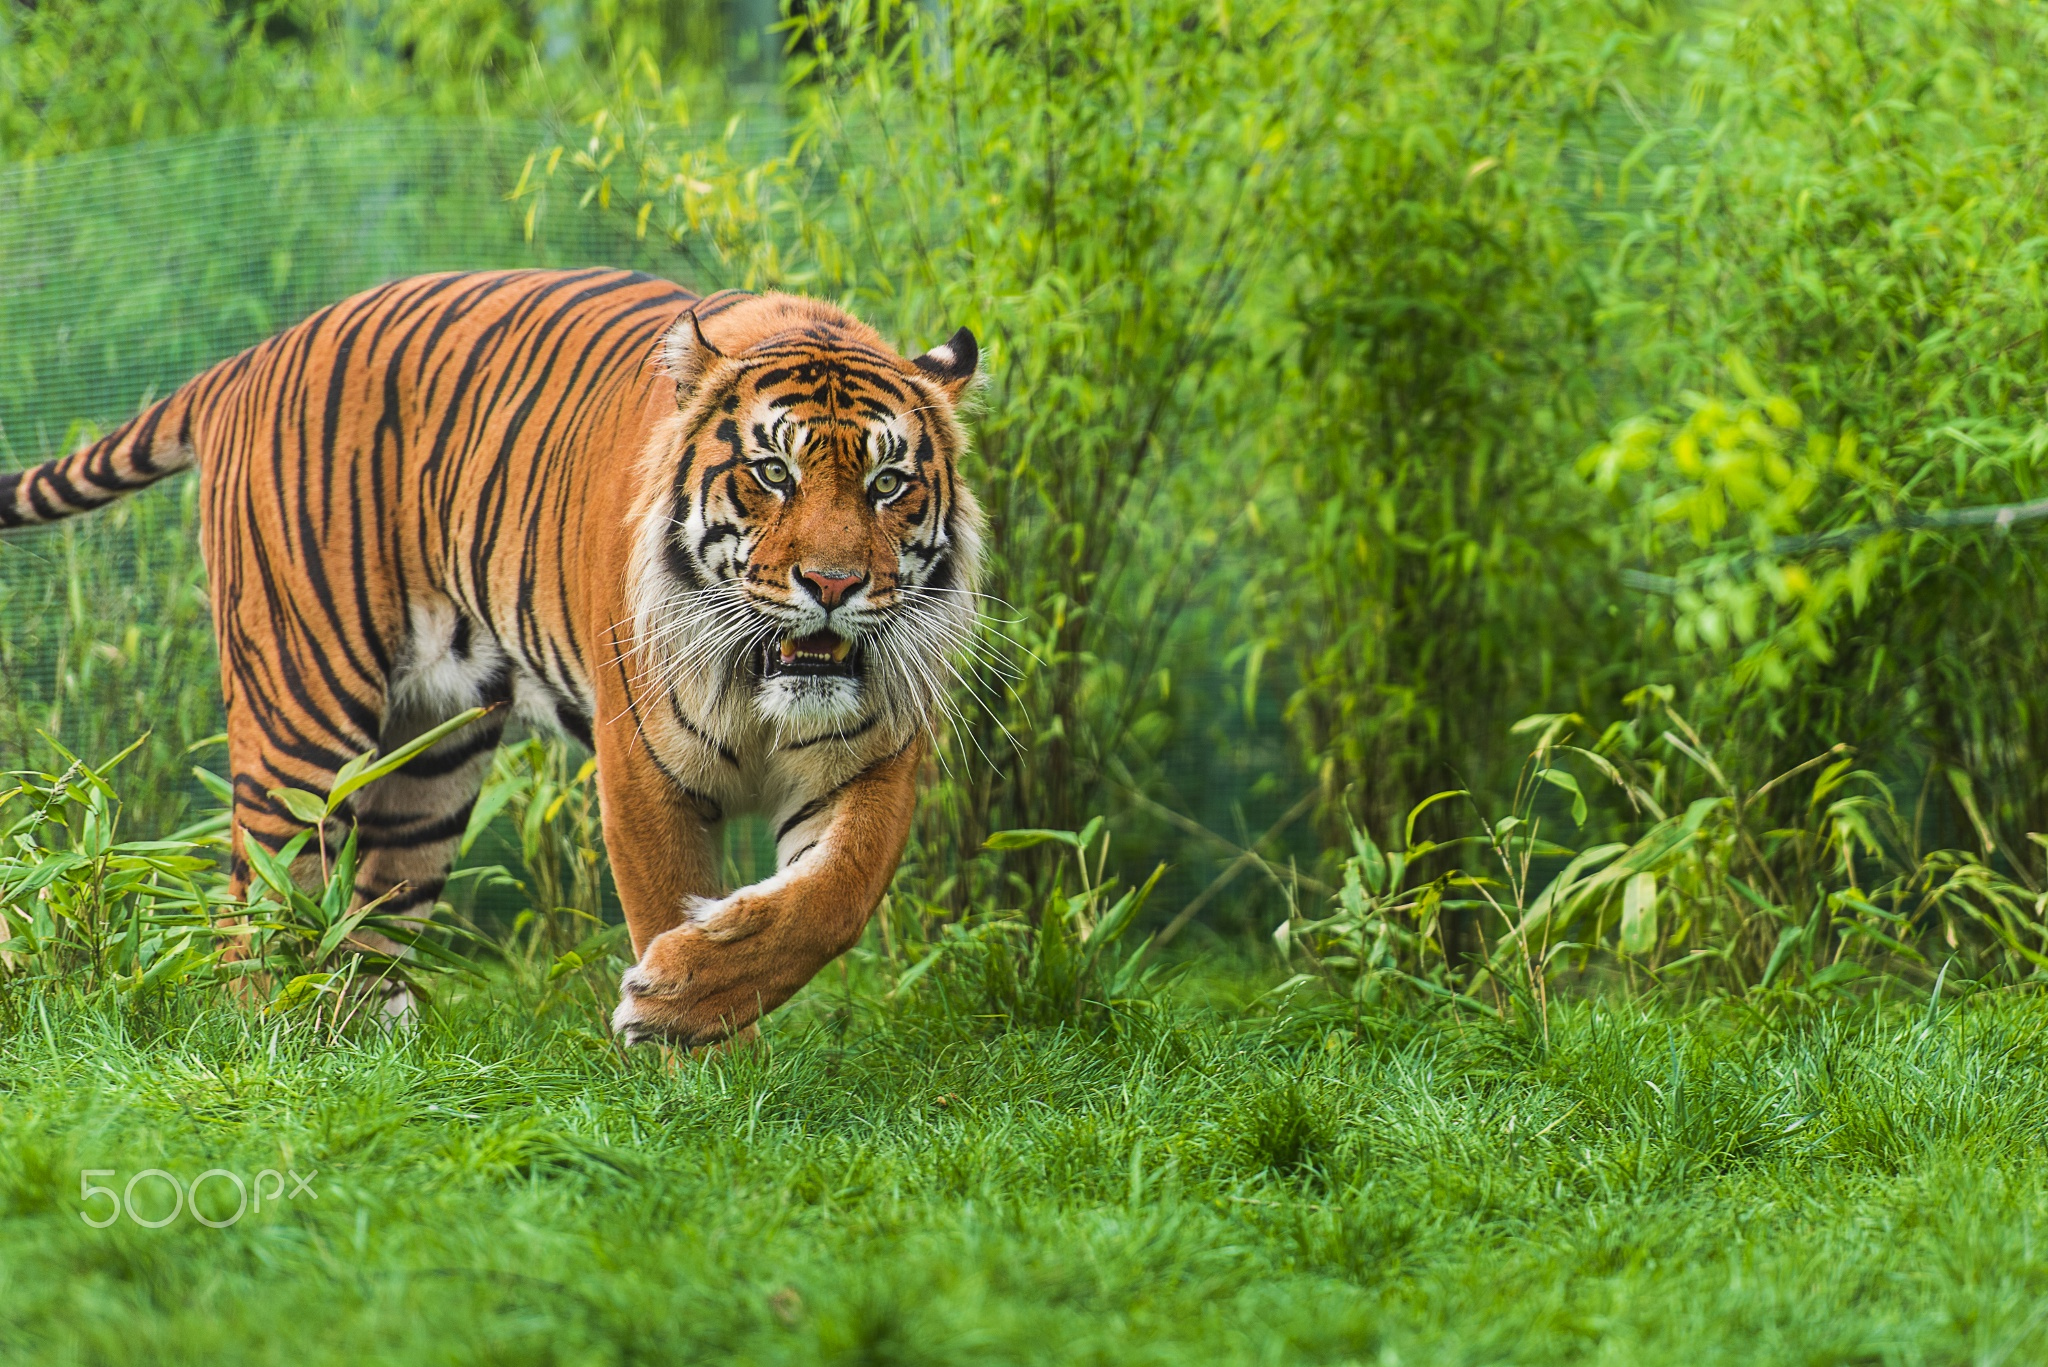tiger: (133, 249, 990, 1037)
